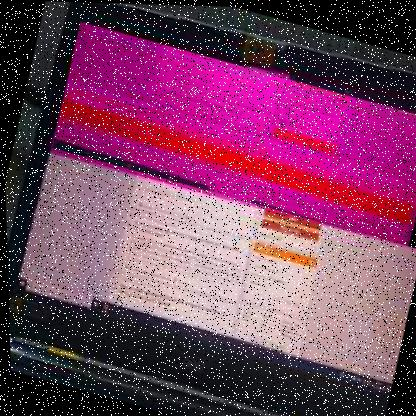fade: (48, 20, 415, 249)
